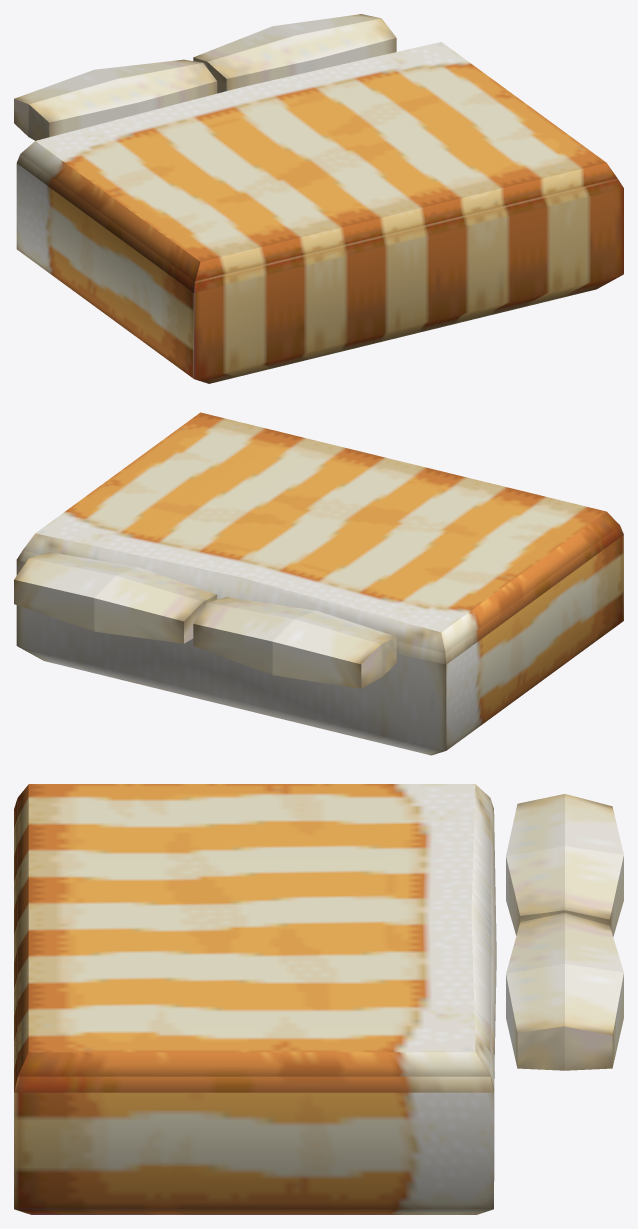
The model's file is Inside_Poly_Bed_03_Blanket_01.obj.
The picture shows the model from 3 angles, top to bottom: view 1: azimuth 30°, elevation 25°; view 2: azimuth 150°, elevation 25°; view 3: azimuth 270°, elevation 25°; orthographic projection. The views are drawn at different scales.
Parts seen in each view (by area): view 1: Cube.006, Cube; view 2: Cube.006, Cube; view 3: Cube.006, Cube.
Part boxes in pixels (x1=…): Cube.006: x1=16, y1=42, x2=623, y2=383; Cube: x1=14, y1=14, x2=396, y2=140; Cube.006: x1=16, y1=412, x2=623, y2=755; Cube: x1=14, y1=552, x2=396, y2=688; Cube.006: x1=14, y1=784, x2=496, y2=1214; Cube: x1=506, y1=794, x2=623, y2=1070.
Bounding box in the file's own units: 1.82 × 0.5449 × 1.65.
1 material, 1 textured.
